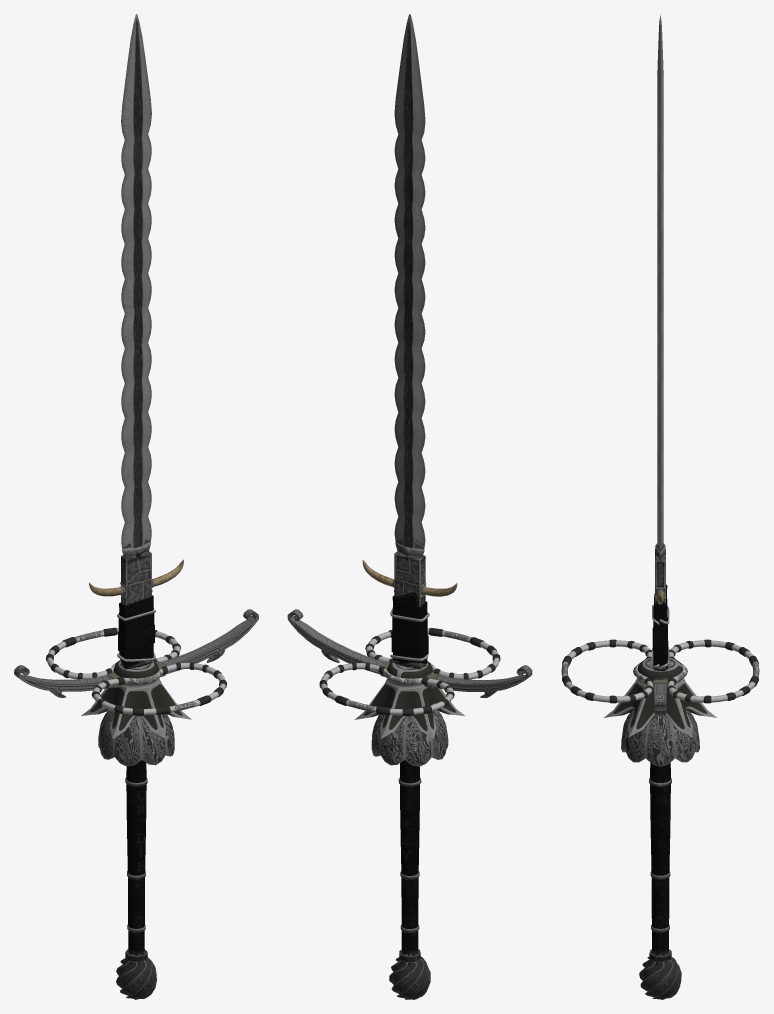
File: ZWEIHANDER.glb
3 renders of one model, left to right at view 1: azimuth 30°, elevation 25°; view 2: azimuth 150°, elevation 25°; view 3: azimuth 270°, elevation 25°, orthographic.
Parts seen in each view (by area): view 1: ZWEIHANDER; view 2: ZWEIHANDER; view 3: ZWEIHANDER.
Part boxes in pixels (<box>): ZWEIHANDER: <box>14,14,258,999</box>; ZWEIHANDER: <box>287,14,532,999</box>; ZWEIHANDER: <box>561,14,759,999</box>.
Bounding box in the file's own units: 0.7802 × 3.05 × 0.5568.
Materials: 1 (1 with a texture image).
